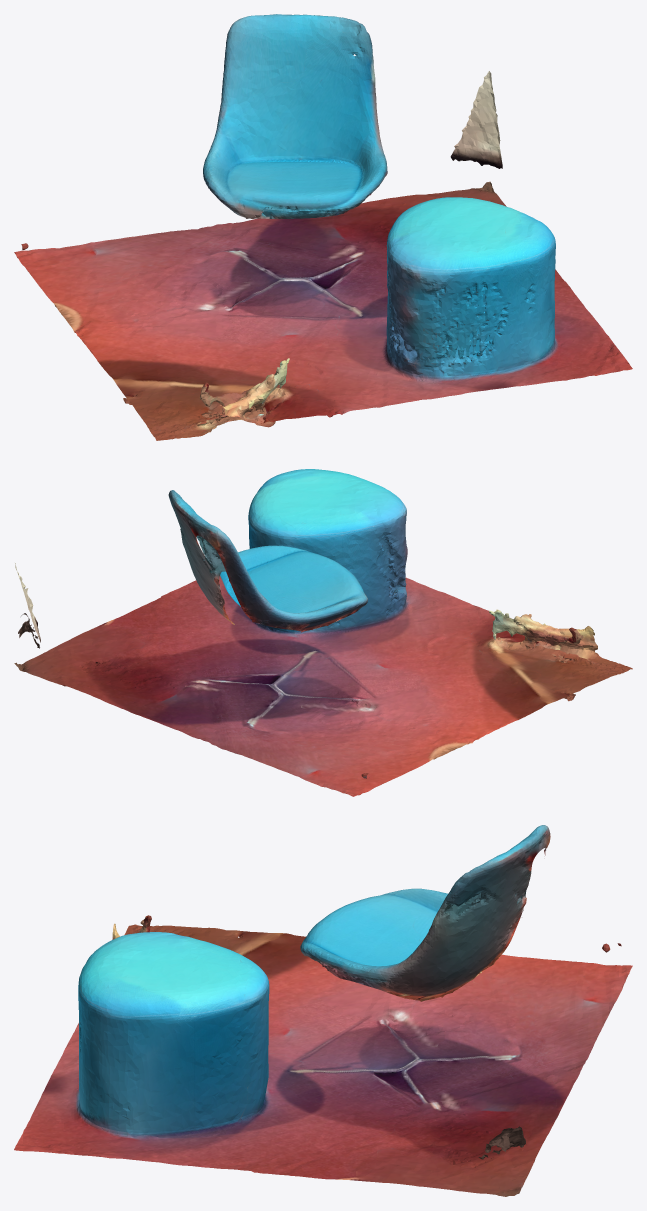
File: chair.glb
The picture shows the model from 3 angles, top to bottom: view 1: azimuth 30°, elevation 25°; view 2: azimuth 150°, elevation 25°; view 3: azimuth 270°, elevation 25°; orthographic projection. The views are drawn at different scales.
Size of the model in its own units: 1.92 by 0.8479 by 1.82.
1 material, 1 textured.
